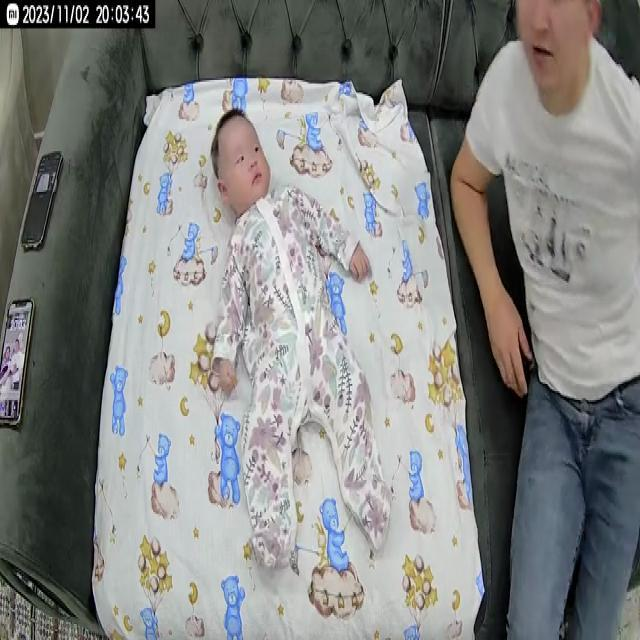baby: (204, 105, 391, 590)
